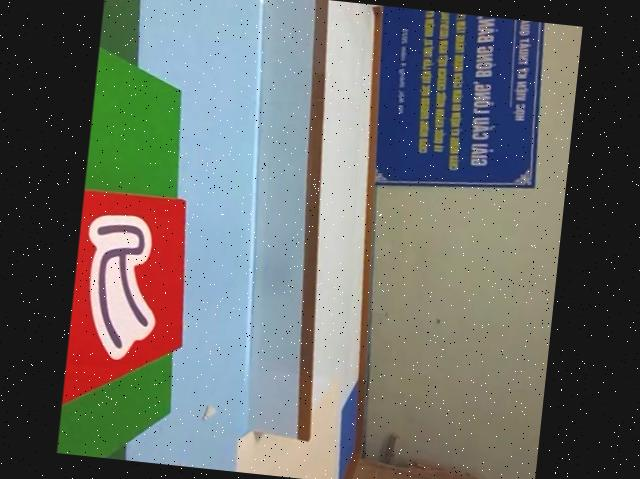R2 Fake: (61, 187, 201, 425)
